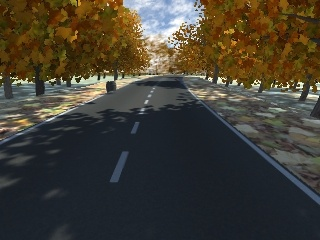Barrel: (103, 80, 117, 92)
